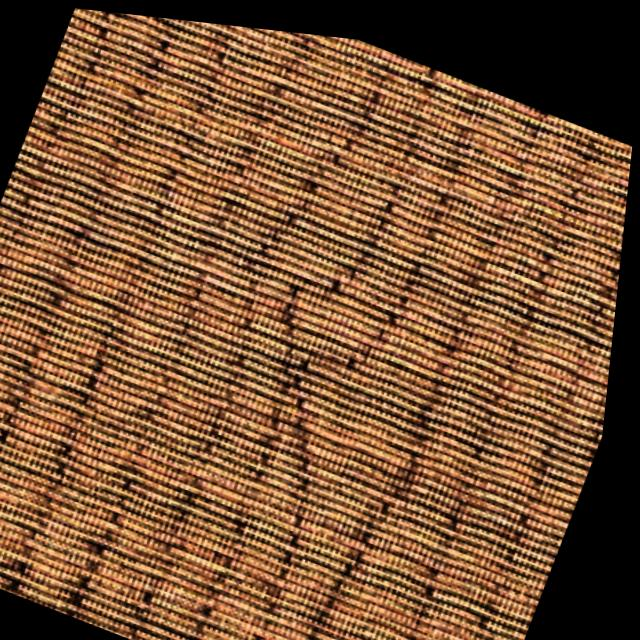Stitch: (209, 187, 440, 521)
